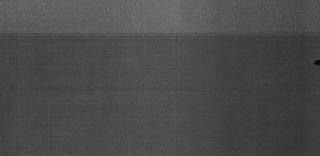punching hole: (313, 58, 319, 66)
welding line: (1, 30, 319, 38)
